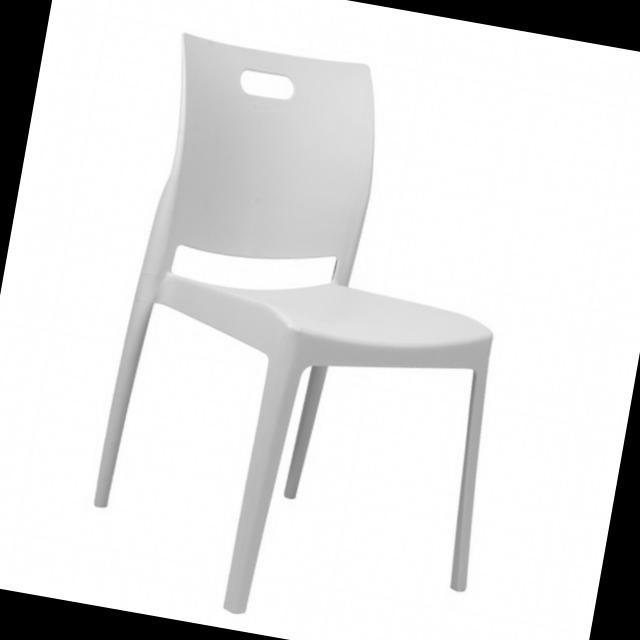chair: (77, 23, 556, 640)
